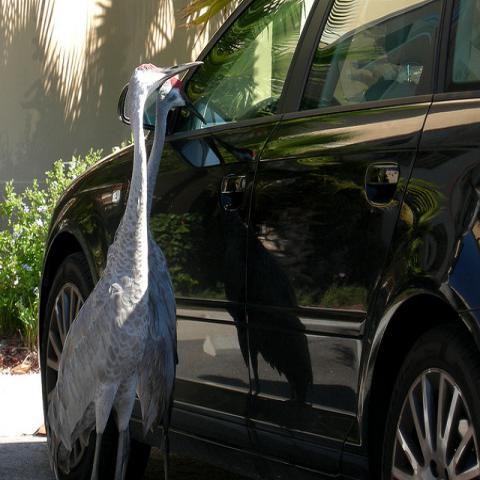car: (39, 0, 479, 477)
